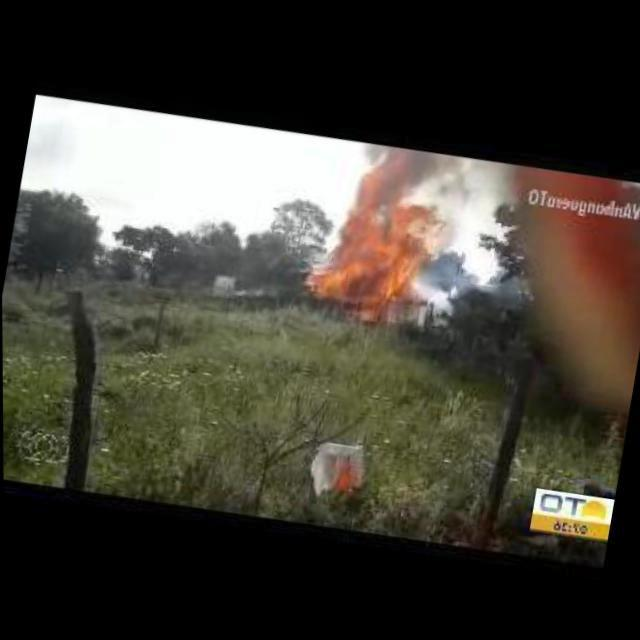fire: (304, 152, 450, 316), (321, 134, 475, 214)
